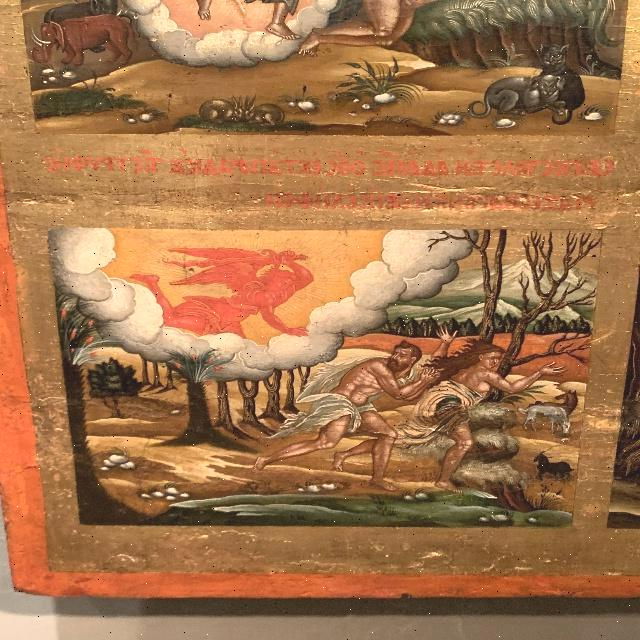adam: (278, 333, 436, 485)
angel: (128, 237, 333, 343)
cloud: (76, 229, 472, 367)
eve: (425, 330, 558, 481)
wing: (166, 260, 258, 299), (161, 243, 281, 259)
